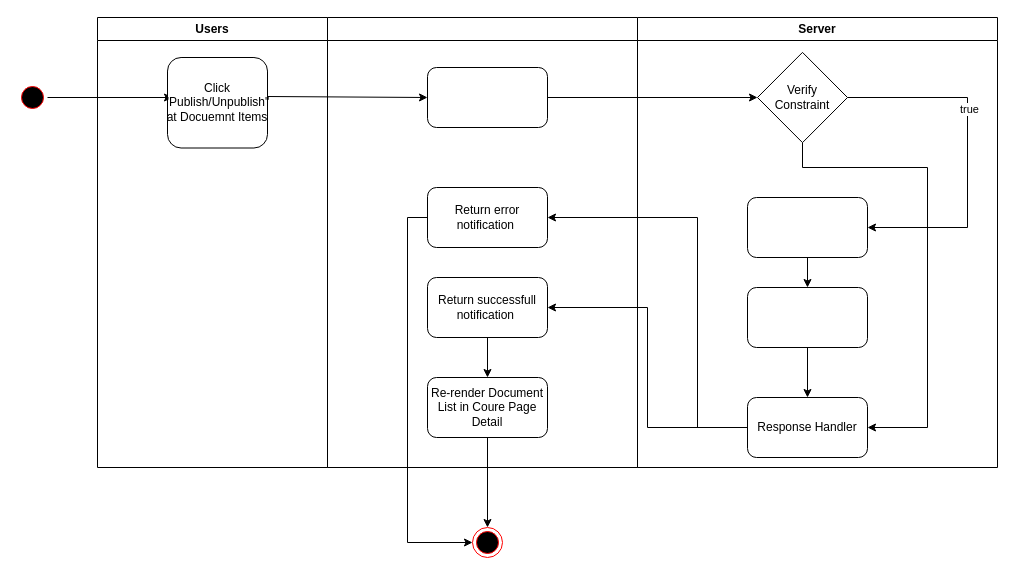
This 1015x575 diagram has some shape labels left out. Here are the shapes that lost their labels. From the top down, the box of each, then its label:
(426, 66, 548, 128): Request Handler
(326, 16, 638, 468): Client
(746, 196, 868, 258): Save Document Information
(746, 286, 868, 348): Update Related Tables
